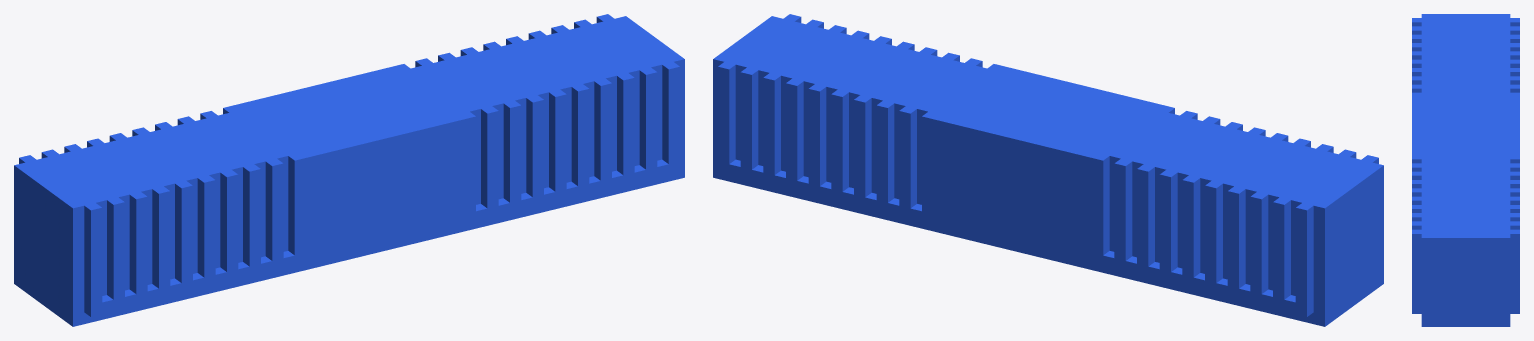
The model's file is storage.gltf.
The picture shows the model from 3 angles, left to right: view 1: azimuth 30°, elevation 25°; view 2: azimuth 150°, elevation 25°; view 3: azimuth 270°, elevation 25°; orthographic projection. The views are drawn at different scales.
Parts seen in each view (by area): view 1: storage; view 2: storage; view 3: storage.
Part boxes in pixels (x1,y1,x2,y2): storage: [14, 14, 684, 326]; storage: [713, 14, 1383, 326]; storage: [1412, 14, 1519, 326].
Bounding box in the file's own units: 54 × 10 × 11.
Materials: 1 (1 with a texture image).
